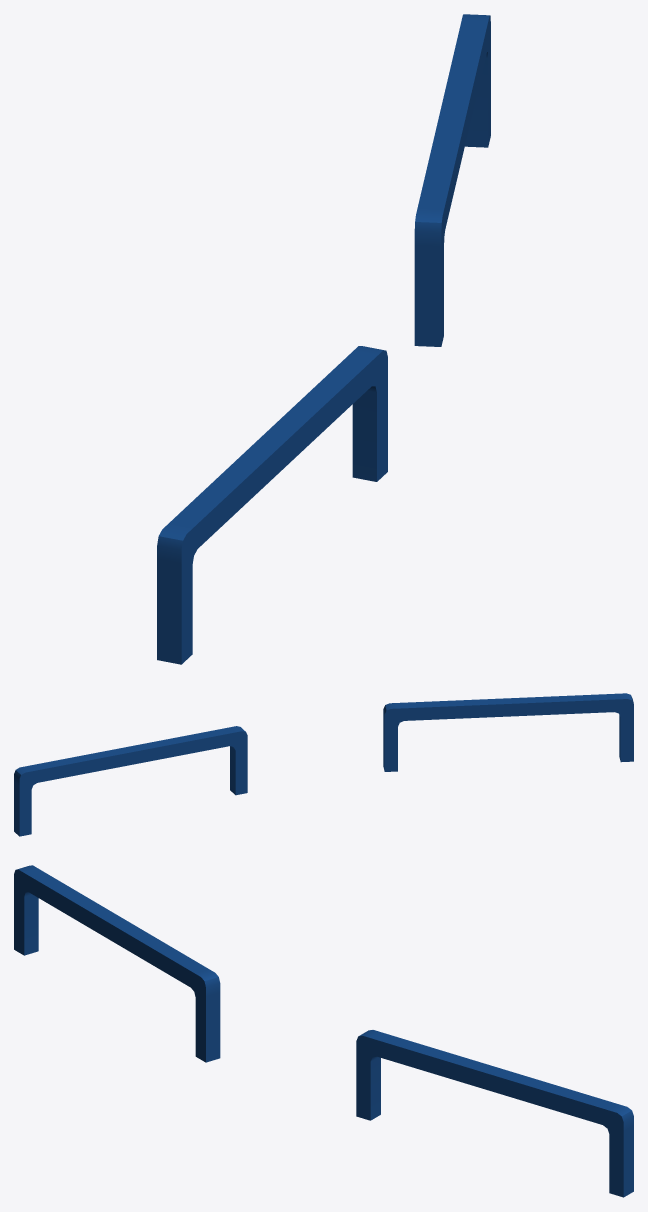
File: LittleFence.fbx
3 views of the same model, one above another, from view 1: azimuth 30°, elevation 25°; view 2: azimuth 150°, elevation 25°; view 3: azimuth 270°, elevation 25° (orthographic). The views are drawn at different scales.
Parts seen in each view (by area): view 1: polySurface66; view 2: polySurface66; view 3: polySurface66.
Part boxes in pixels (<box>): polySurface66: <box>157,14,490,664</box>; polySurface66: <box>14,693,633,836</box>; polySurface66: <box>14,865,633,1197</box>.
Bounding box in the file's own units: 91.19 × 13.94 × 94.72.
